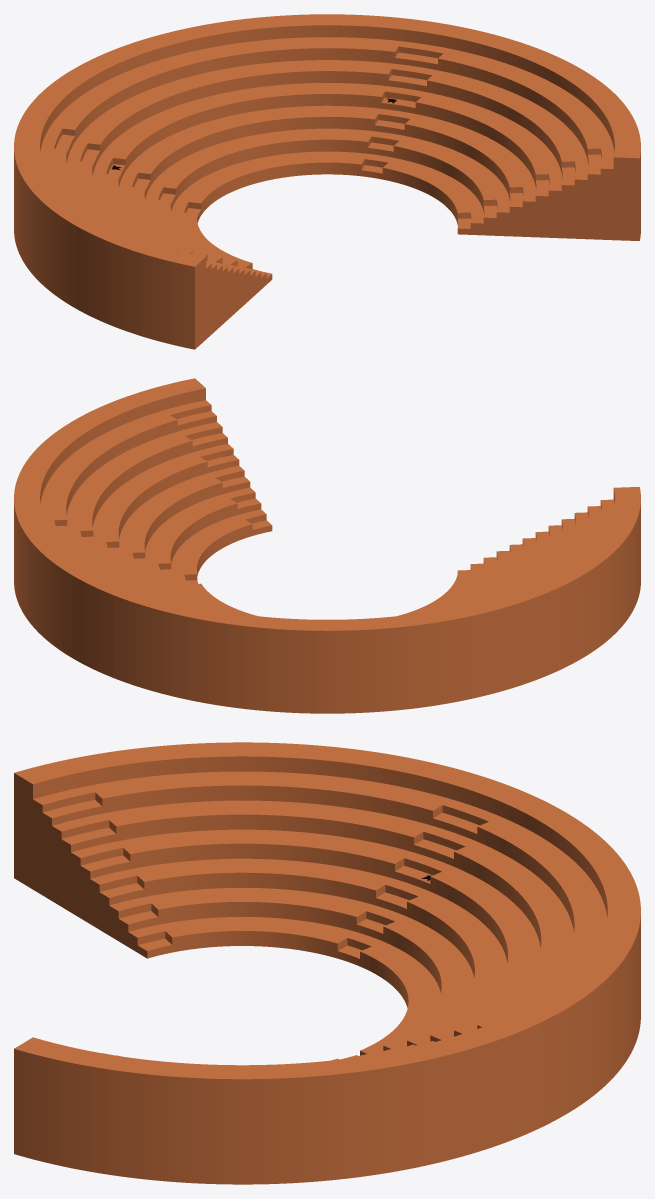
Rendered from amfiteatro.glb.
3 renders of one model, top to bottom at view 1: azimuth 30°, elevation 25°; view 2: azimuth 150°, elevation 25°; view 3: azimuth 270°, elevation 25°, orthographic. The views are drawn at different scales.
Visible parts, largest first — view 1: node_id50, node_id59, node_id41, node_id35, node_id23, node_id5, node_id11, node_id32, node_id14, node_id62, node_id56; view 2: node_id50, node_id59, node_id41, node_id32, node_id14, node_id23, node_id5, node_id65; view 3: node_id41, node_id50, node_id59, node_id5, node_id14, node_id11, node_id32, node_id23.
Boxes of the visible parts, left/top/right/bottom form: node_id50: left=25, top=14, right=408, bottom=214; node_id59: left=382, top=26, right=639, bottom=223; node_id41: left=14, top=135, right=251, bottom=337; node_id35: left=457, top=157, right=639, bottom=240; node_id23: left=361, top=19, right=459, bottom=179; node_id5: left=147, top=246, right=271, bottom=349; node_id11: left=195, top=257, right=272, bottom=349; node_id32: left=457, top=135, right=640, bottom=240; node_id14: left=15, top=112, right=201, bottom=222; node_id62: left=457, top=148, right=600, bottom=218; node_id56: left=62, top=128, right=201, bottom=209; node_id50: left=24, top=530, right=408, bottom=713; node_id59: left=14, top=390, right=252, bottom=592; node_id41: left=398, top=509, right=639, bottom=701; node_id32: left=148, top=378, right=272, bottom=535; node_id14: left=402, top=608, right=459, bottom=708; node_id23: left=15, top=509, right=198, bottom=614; node_id5: left=457, top=487, right=640, bottom=592; node_id65: left=54, top=520, right=197, bottom=580; node_id41: left=74, top=742, right=470, bottom=958; node_id50: left=360, top=792, right=640, bottom=1134; node_id59: left=74, top=1037, right=470, bottom=1184; node_id5: left=14, top=758, right=172, bottom=958; node_id14: left=337, top=773, right=523, bottom=966; node_id11: left=14, top=773, right=147, bottom=958; node_id32: left=14, top=1037, right=87, bottom=1168; node_id23: left=452, top=1020, right=524, bottom=1153.
Bounding box in the file's own units: 0.512 × 0.0747 × 0.4028.
Materials: 21 (21 with a texture image).
